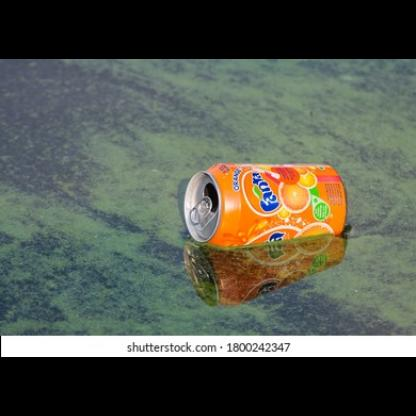Lid_Open: (184, 178, 219, 228)
Tin_Can: (180, 161, 352, 253)
